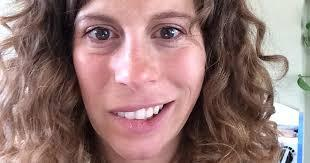strokeMouthMid: (104, 95, 178, 132)
